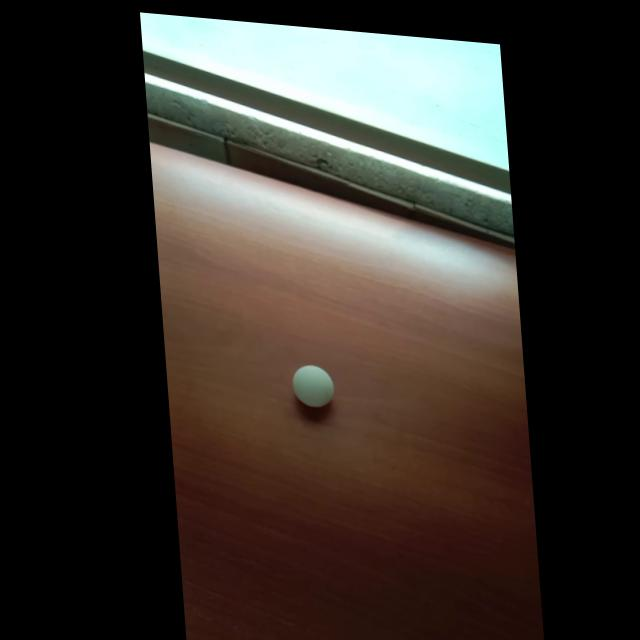white ball: (290, 363, 335, 410)
